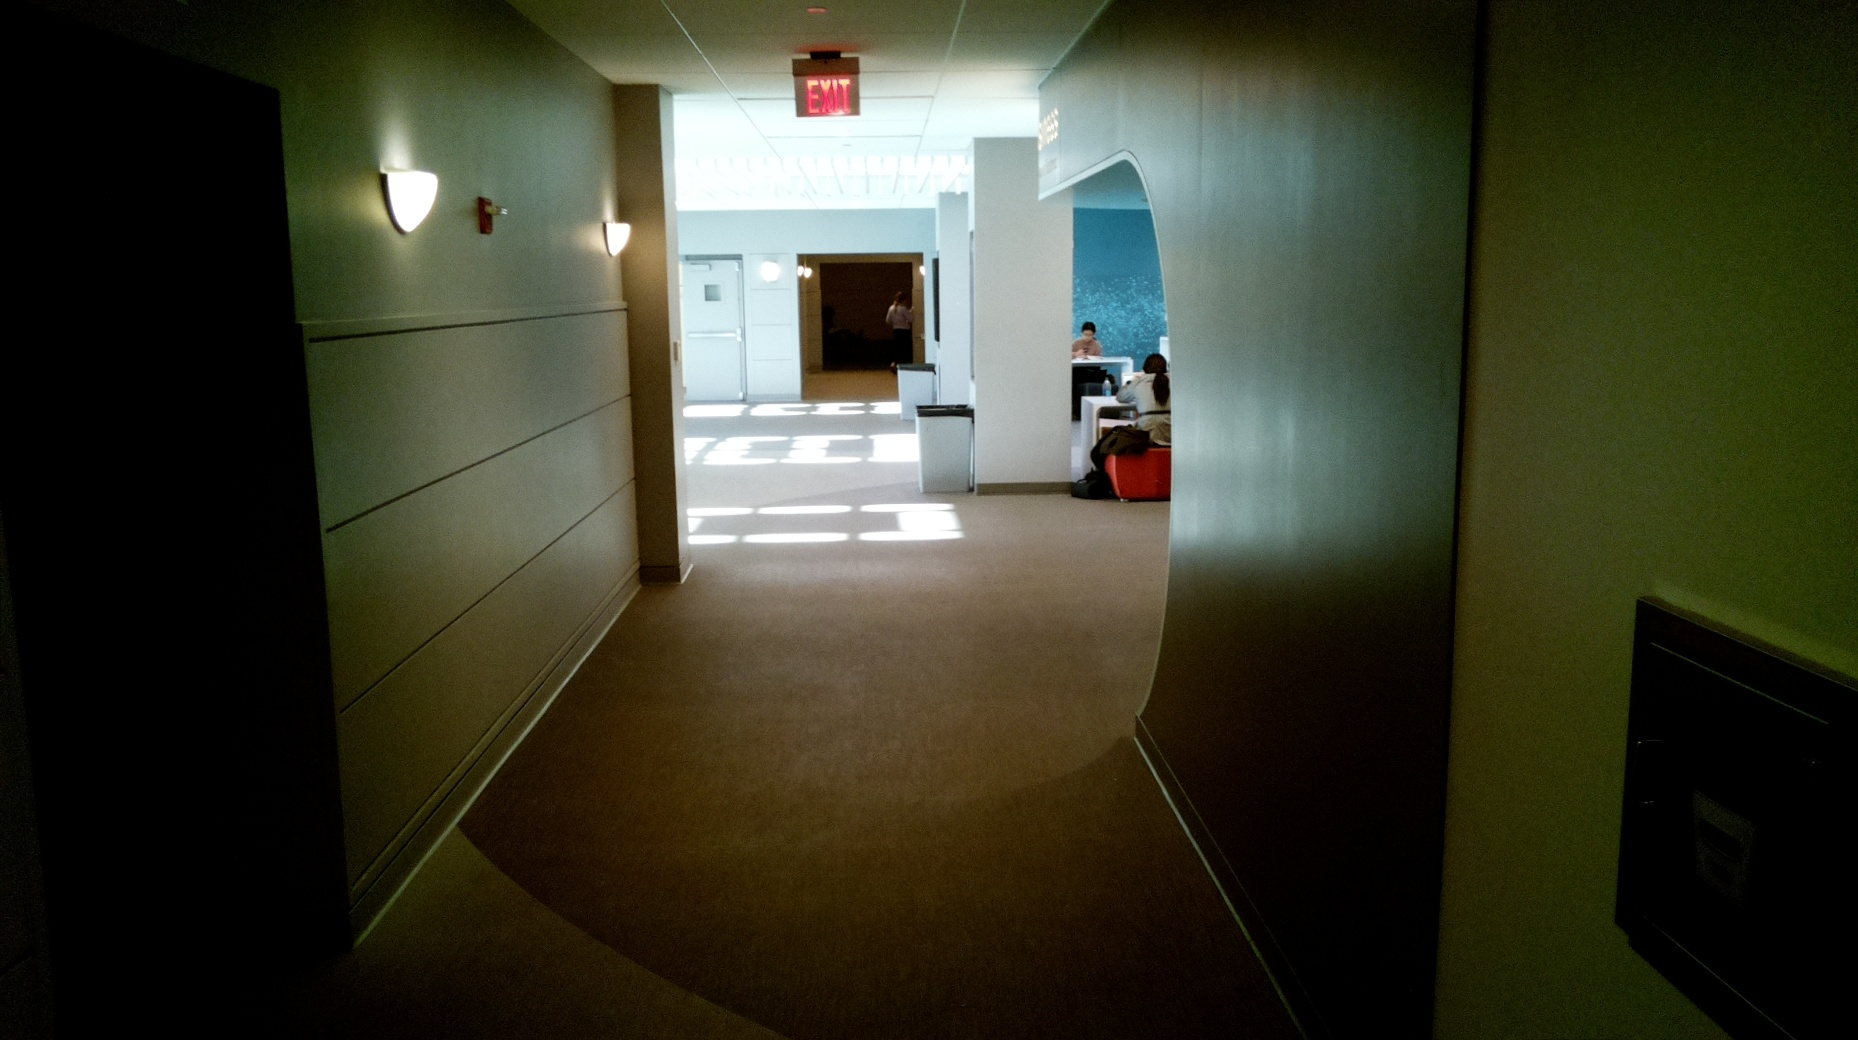exit sign: (790, 71, 863, 120)
